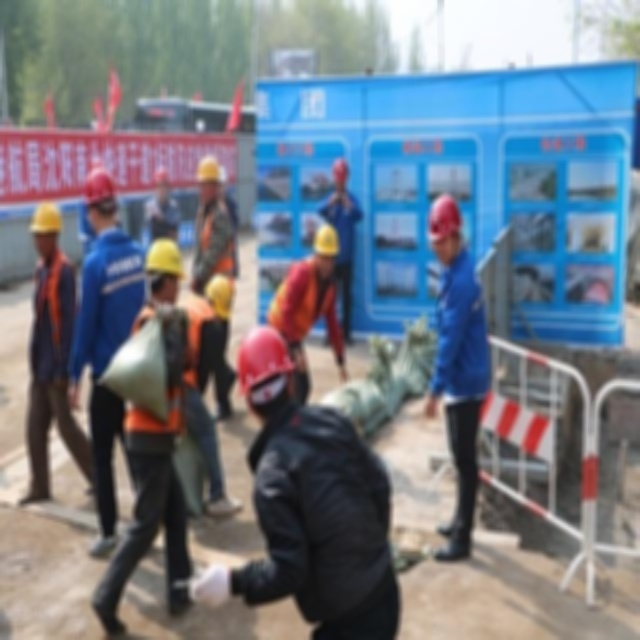Con_Casco: (146, 241, 187, 304), (428, 195, 463, 259), (30, 203, 62, 253)
